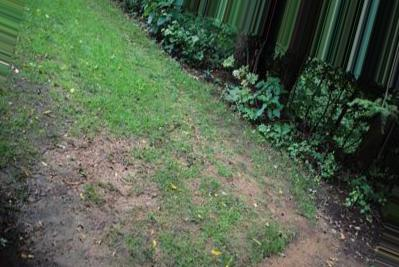patch: (47, 189, 103, 261), (53, 159, 93, 187), (118, 192, 145, 217), (310, 242, 339, 263), (103, 164, 125, 189), (278, 248, 295, 267)
